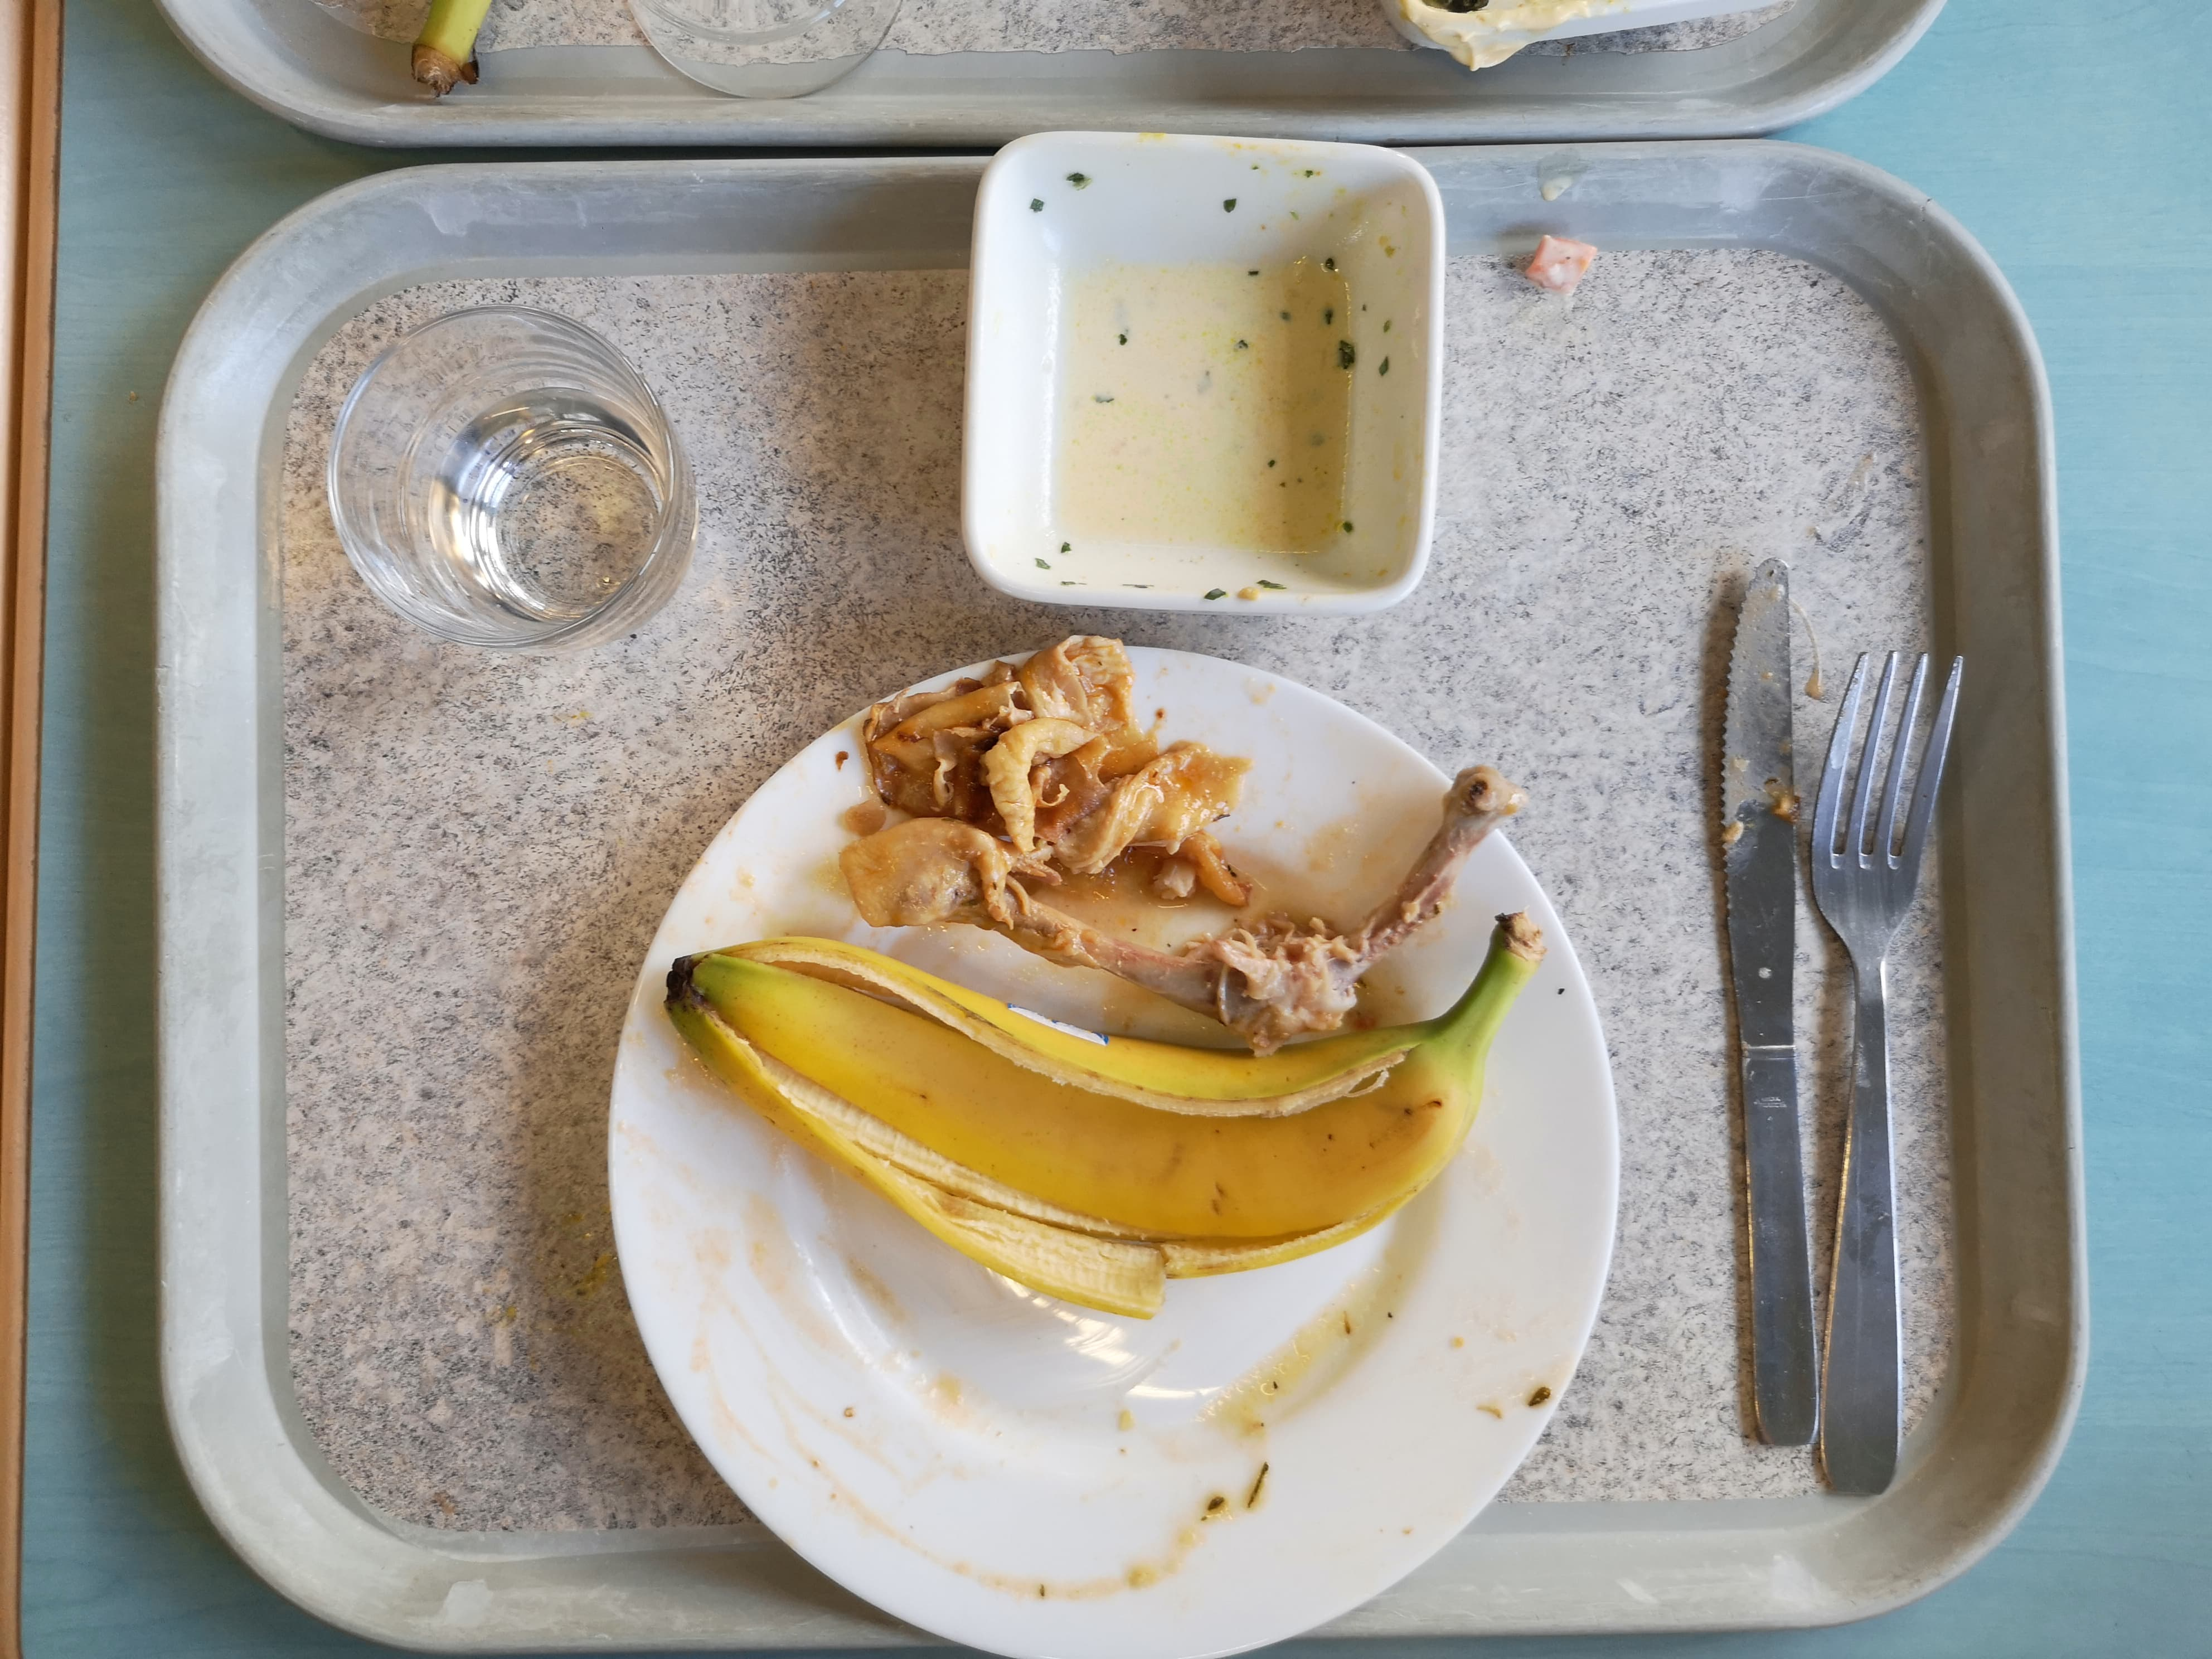cup: (331, 279, 693, 662)
cutlery: (1815, 641, 1993, 1511), (1721, 542, 1817, 1445)
orga: (655, 941, 1515, 1277), (836, 653, 1514, 1028)
